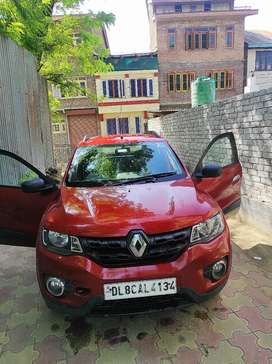DL8CAL4134: (103, 276, 177, 300)
